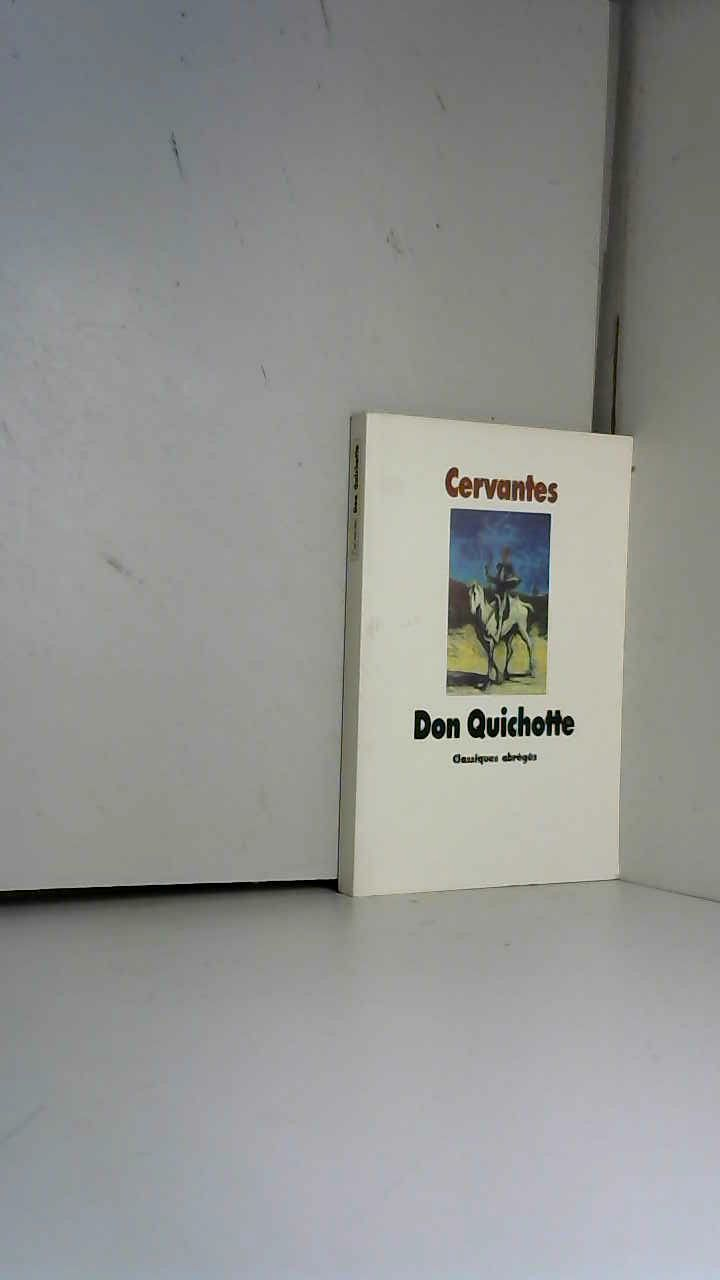book: (331, 401, 643, 909)
